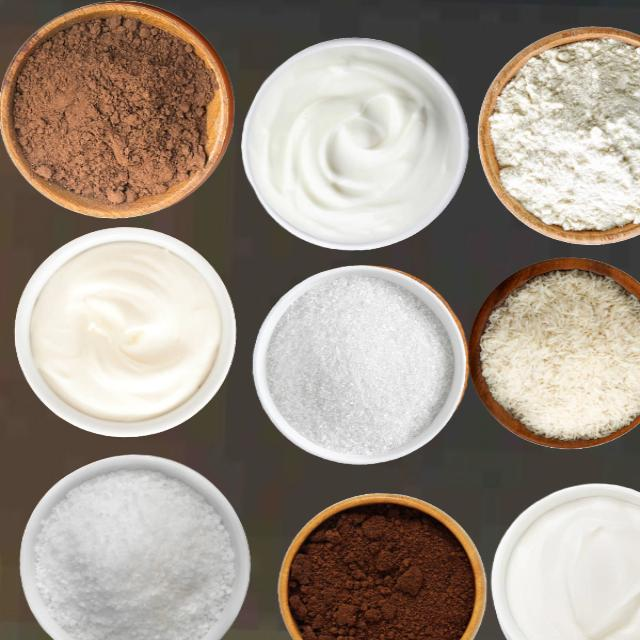Cocoa: (11, 12, 216, 206)
Coffee: (284, 499, 479, 639)
Flour: (488, 36, 639, 231)
Sugar: (33, 468, 235, 639), (264, 274, 453, 456)
